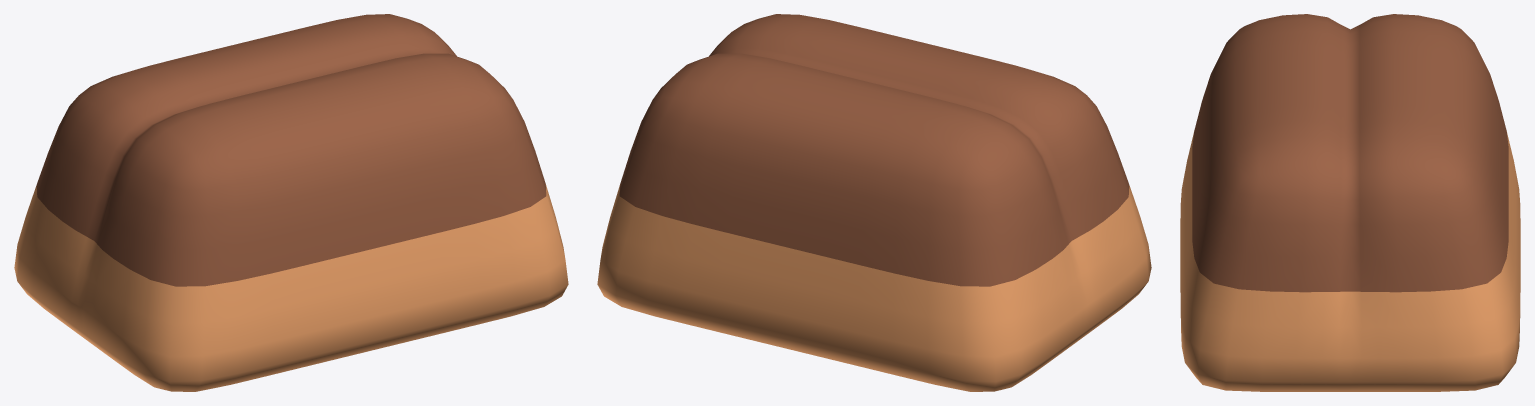
File: Pudding_B_03.fbx
3 renders of one model, left to right at view 1: azimuth 30°, elevation 25°; view 2: azimuth 150°, elevation 25°; view 3: azimuth 270°, elevation 25°, orthographic.
Visible parts, largest first — view 1: Pudding_B_03_LOD0; view 2: Pudding_B_03_LOD0; view 3: Pudding_B_03_LOD0.
Part boxes in pixels (x1=…): Pudding_B_03_LOD0: x1=14, y1=14, x2=568, y2=391; Pudding_B_03_LOD0: x1=597, y1=14, x2=1151, y2=391; Pudding_B_03_LOD0: x1=1180, y1=14, x2=1520, y2=391.
Size of what is drawn, in the model's own units: 663 by 341 by 464.
